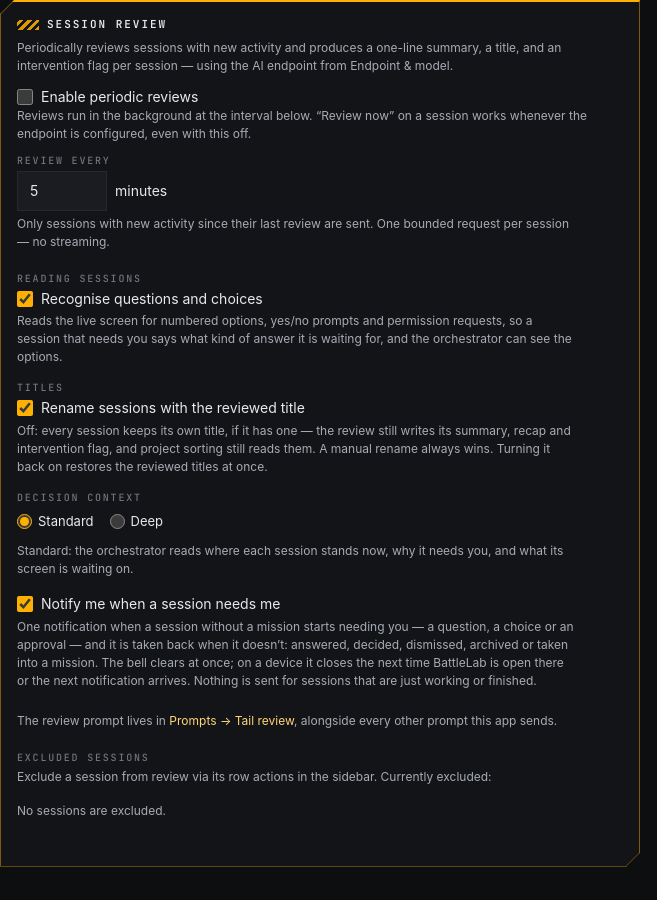
Test case: a rejected enable toggle says why and the checkbox keeps the saved state (#957)
Click the checkbox labelled "Enable periodic reviews" at (25,97), box [17,89,33,105]
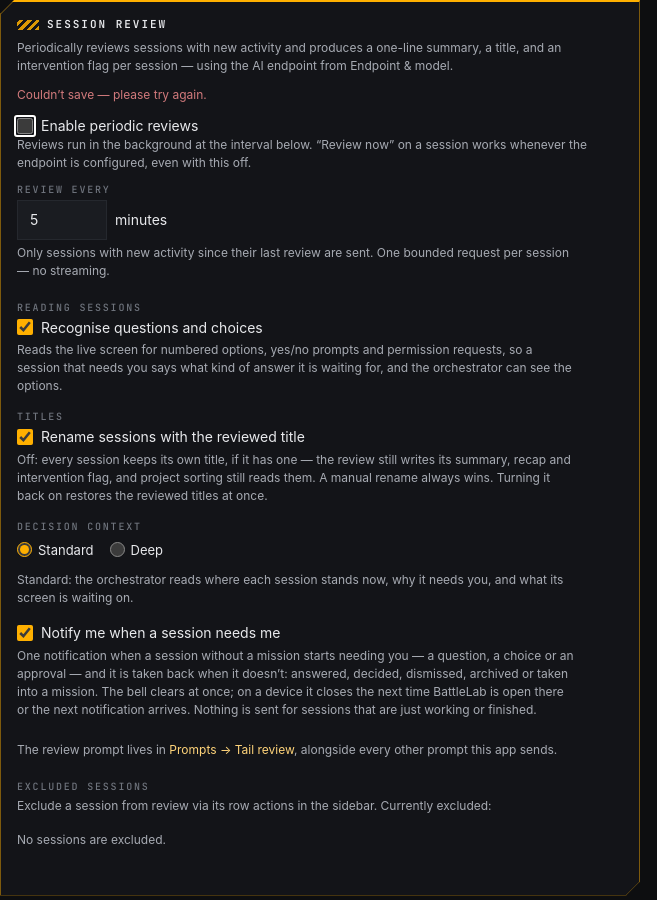
Check: the checkbox labelled "Enable periodic reviews" is not checked, box [17,118,33,134]
Check: the message reads "Couldn’t save — please try again.", box [17,87,207,102]
